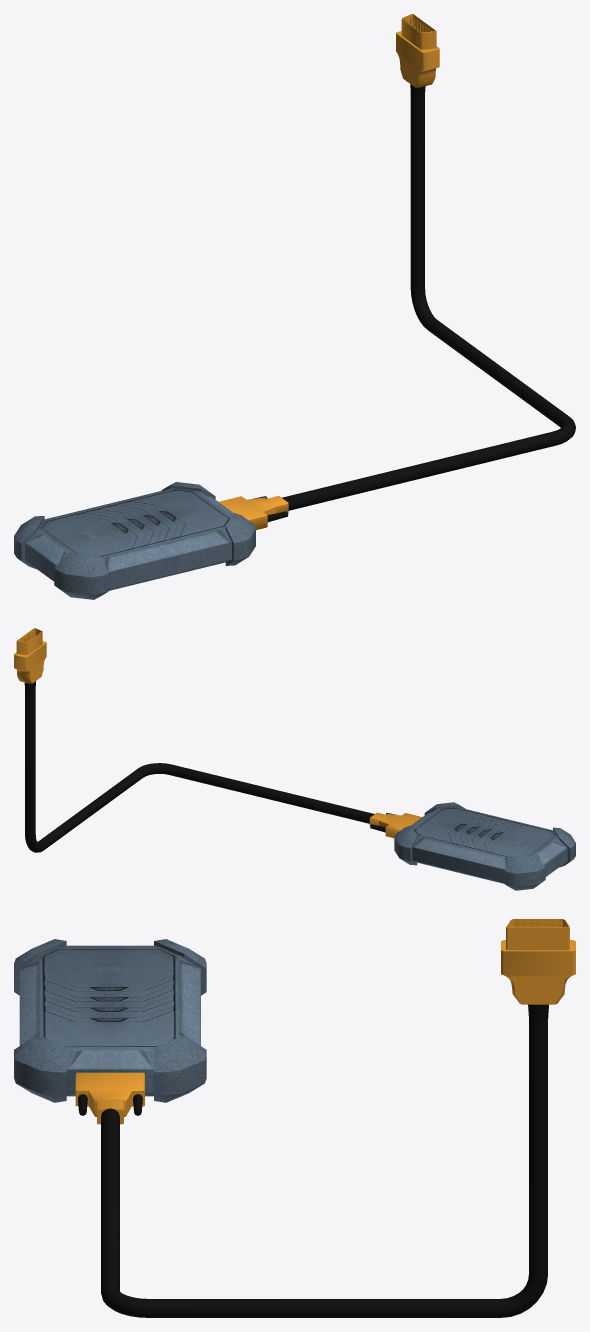
Rendered from YQ_ZDY_JMQ_v1.FBX.
3 views of the same model, one above another, from view 1: azimuth 30°, elevation 25°; view 2: azimuth 150°, elevation 25°; view 3: azimuth 270°, elevation 25° (orthographic). The views are drawn at different scales.
Parts seen in each view (by area): view 1: zhenduanyi_01_jiemaqi, Line001, YQ_zhenduanyi_dyx_02, YQ_zhenduanyi_dyx_01; view 2: zhenduanyi_01_jiemaqi, Line001, YQ_zhenduanyi_dyx_02, YQ_zhenduanyi_dyx_01; view 3: zhenduanyi_01_jiemaqi, Line001, YQ_zhenduanyi_dyx_02, YQ_zhenduanyi_dyx_01.
Boxes of the visible parts, <box> form: zhenduanyi_01_jiemaqi: <box>14,482,255,599</box>; Line001: <box>282,90,575,510</box>; YQ_zhenduanyi_dyx_02: <box>396,14,439,98</box>; YQ_zhenduanyi_dyx_01: <box>218,496,288,529</box>; zhenduanyi_01_jiemaqi: <box>394,802,575,890</box>; Line001: <box>25,686,374,852</box>; YQ_zhenduanyi_dyx_02: <box>14,628,46,692</box>; YQ_zhenduanyi_dyx_01: <box>369,812,422,838</box>; zhenduanyi_01_jiemaqi: <box>14,939,206,1102</box>; Line001: <box>101,1011,547,1317</box>; YQ_zhenduanyi_dyx_02: <box>501,919,575,1022</box>; YQ_zhenduanyi_dyx_01: <box>75,1072,144,1124</box>.
Bounding box in the file's own units: 44.14 × 23.81 × 29.45.
Materials: 3 (1 with a texture image).
